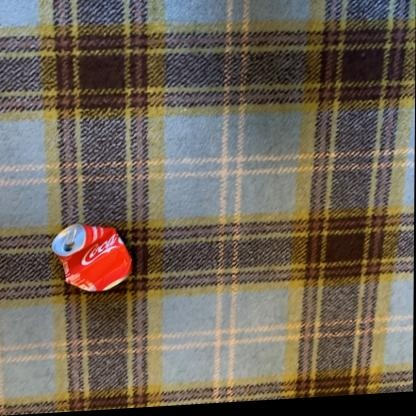trash: (52, 224, 131, 291)
